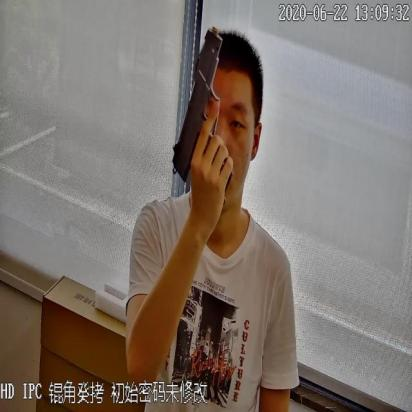Gun: (170, 23, 237, 206)
